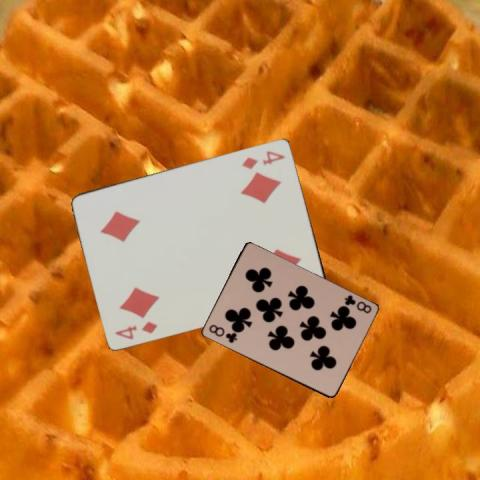4d: (238, 147, 286, 170), (112, 318, 159, 341)
8c: (205, 321, 238, 345), (341, 292, 373, 315)
